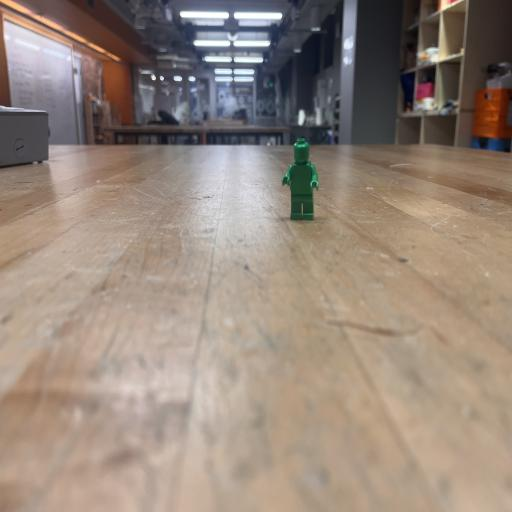Lego-Minifig: (282, 138, 318, 220)
